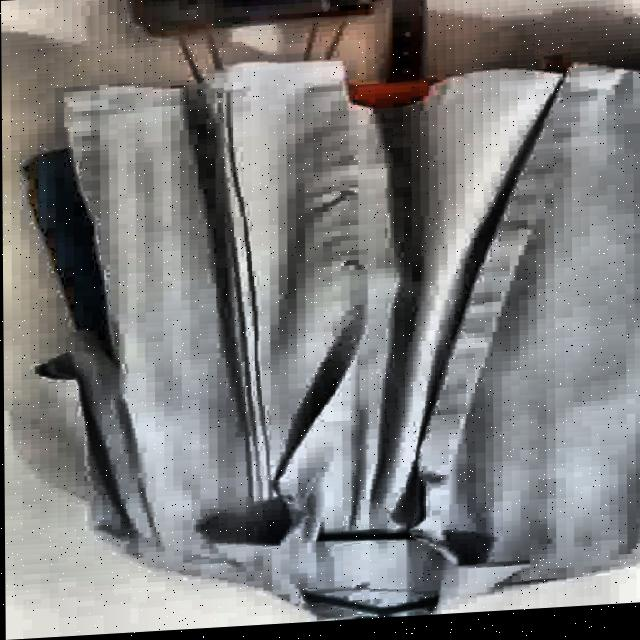clothes: (25, 40, 640, 639)
